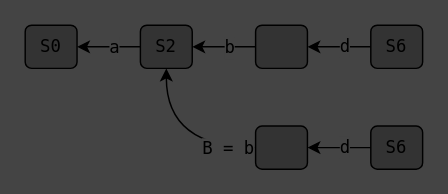
This 448x194 diagram has some shape labels left out. Here are the shapes that lost their labels. From the top down, the centre of each, then its label:
the point at 280,46: S3
the point at 280,147: S4
